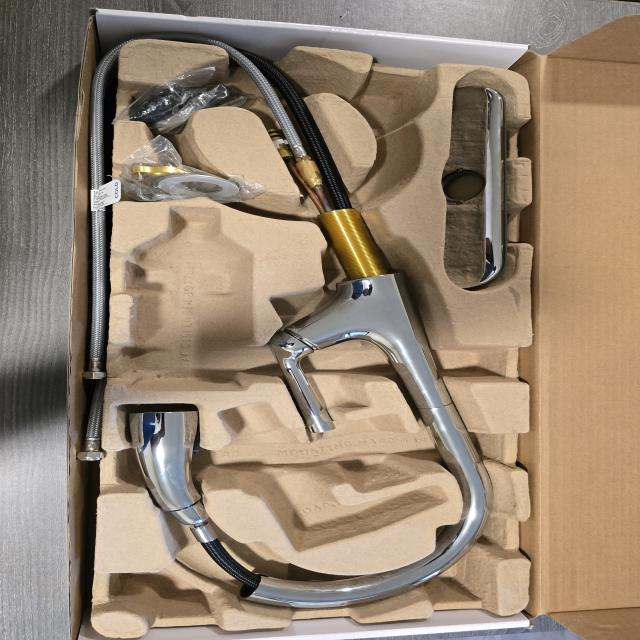1: (129, 41, 495, 608)
2m: (216, 403, 444, 550)
3m: (129, 207, 251, 391)
4: (441, 85, 505, 289)
5m: (353, 80, 427, 130)
6: (112, 134, 264, 204)
7: (114, 64, 250, 137)
